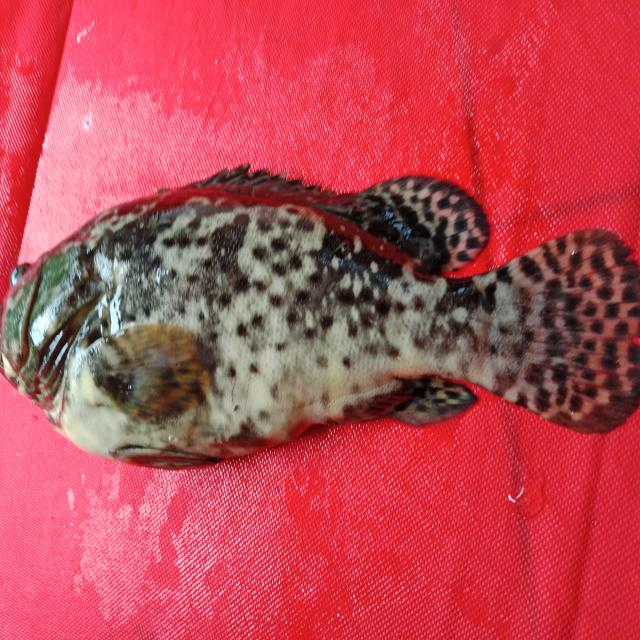ikan: (7, 141, 629, 482)
